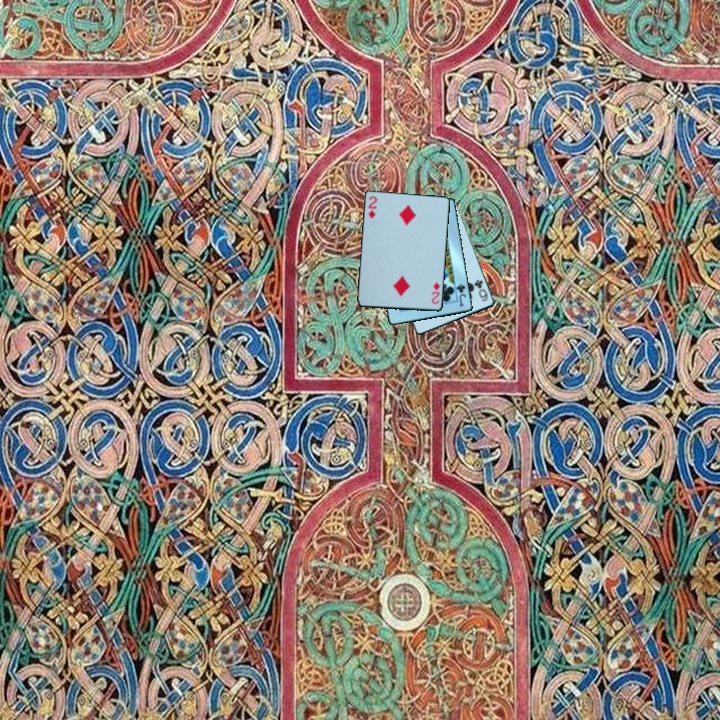2d: (365, 193, 380, 222), (428, 279, 443, 307)
6c: (471, 276, 491, 304)
Jc: (453, 281, 469, 309)
